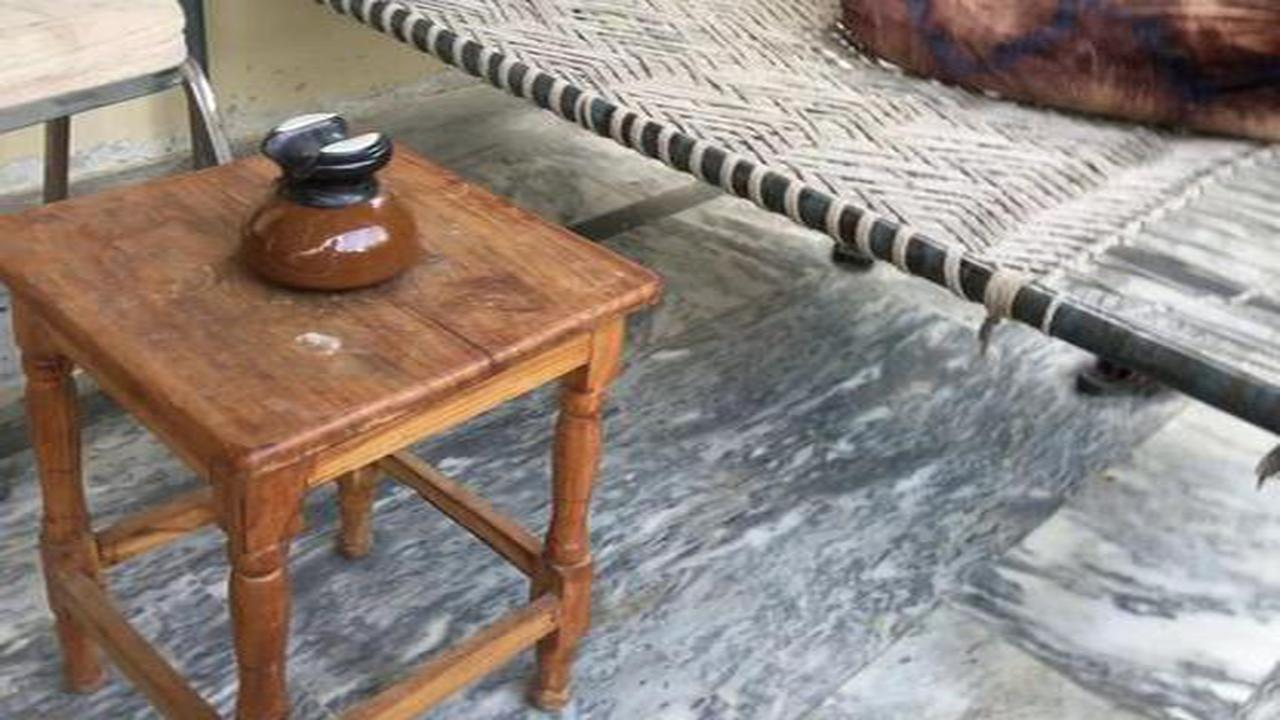insulator_pin: (210, 101, 441, 305)
